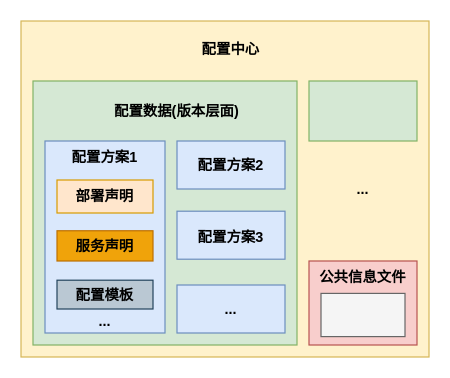
This 450x378 diagram has some shape labels left out. Each missing label, with the box of its shape:
历史版本1: (308, 80, 417, 141)
文件1: (320, 292, 405, 337)
